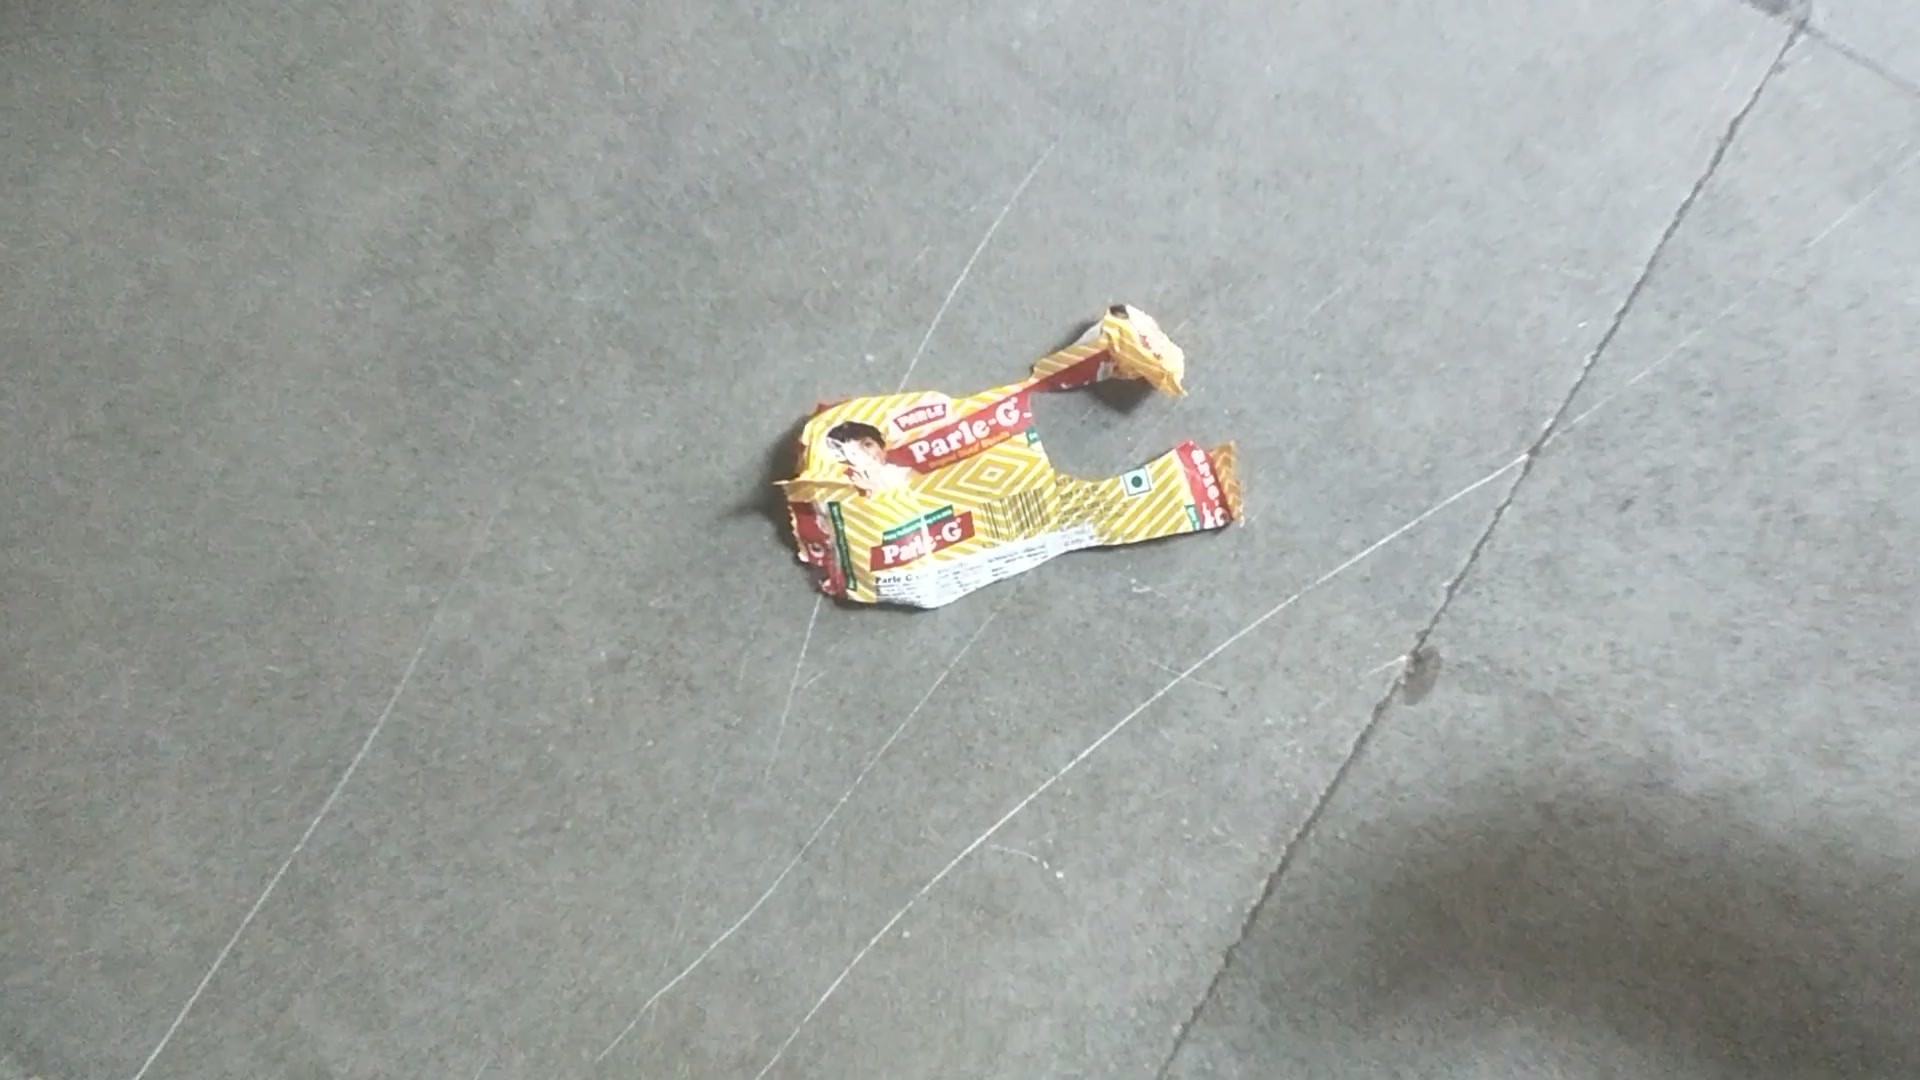parle-g-b: (802, 400, 1044, 564)
